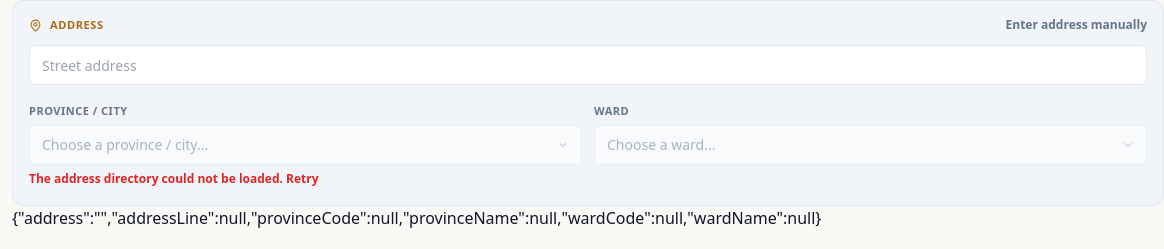
VietnamAddressFields › retains retry behavior for unexpected directory failures
Click the button "The address directory could not be loaded. Retry" at (174, 179), box x1=29 y1=171 x2=319 y2=187
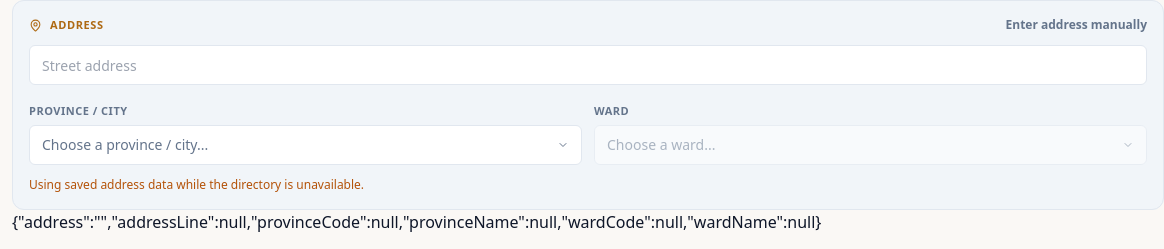
Now the text "Using saved address data while the directory is unavailable." is shown, box x1=29 y1=176 x2=364 y2=193
